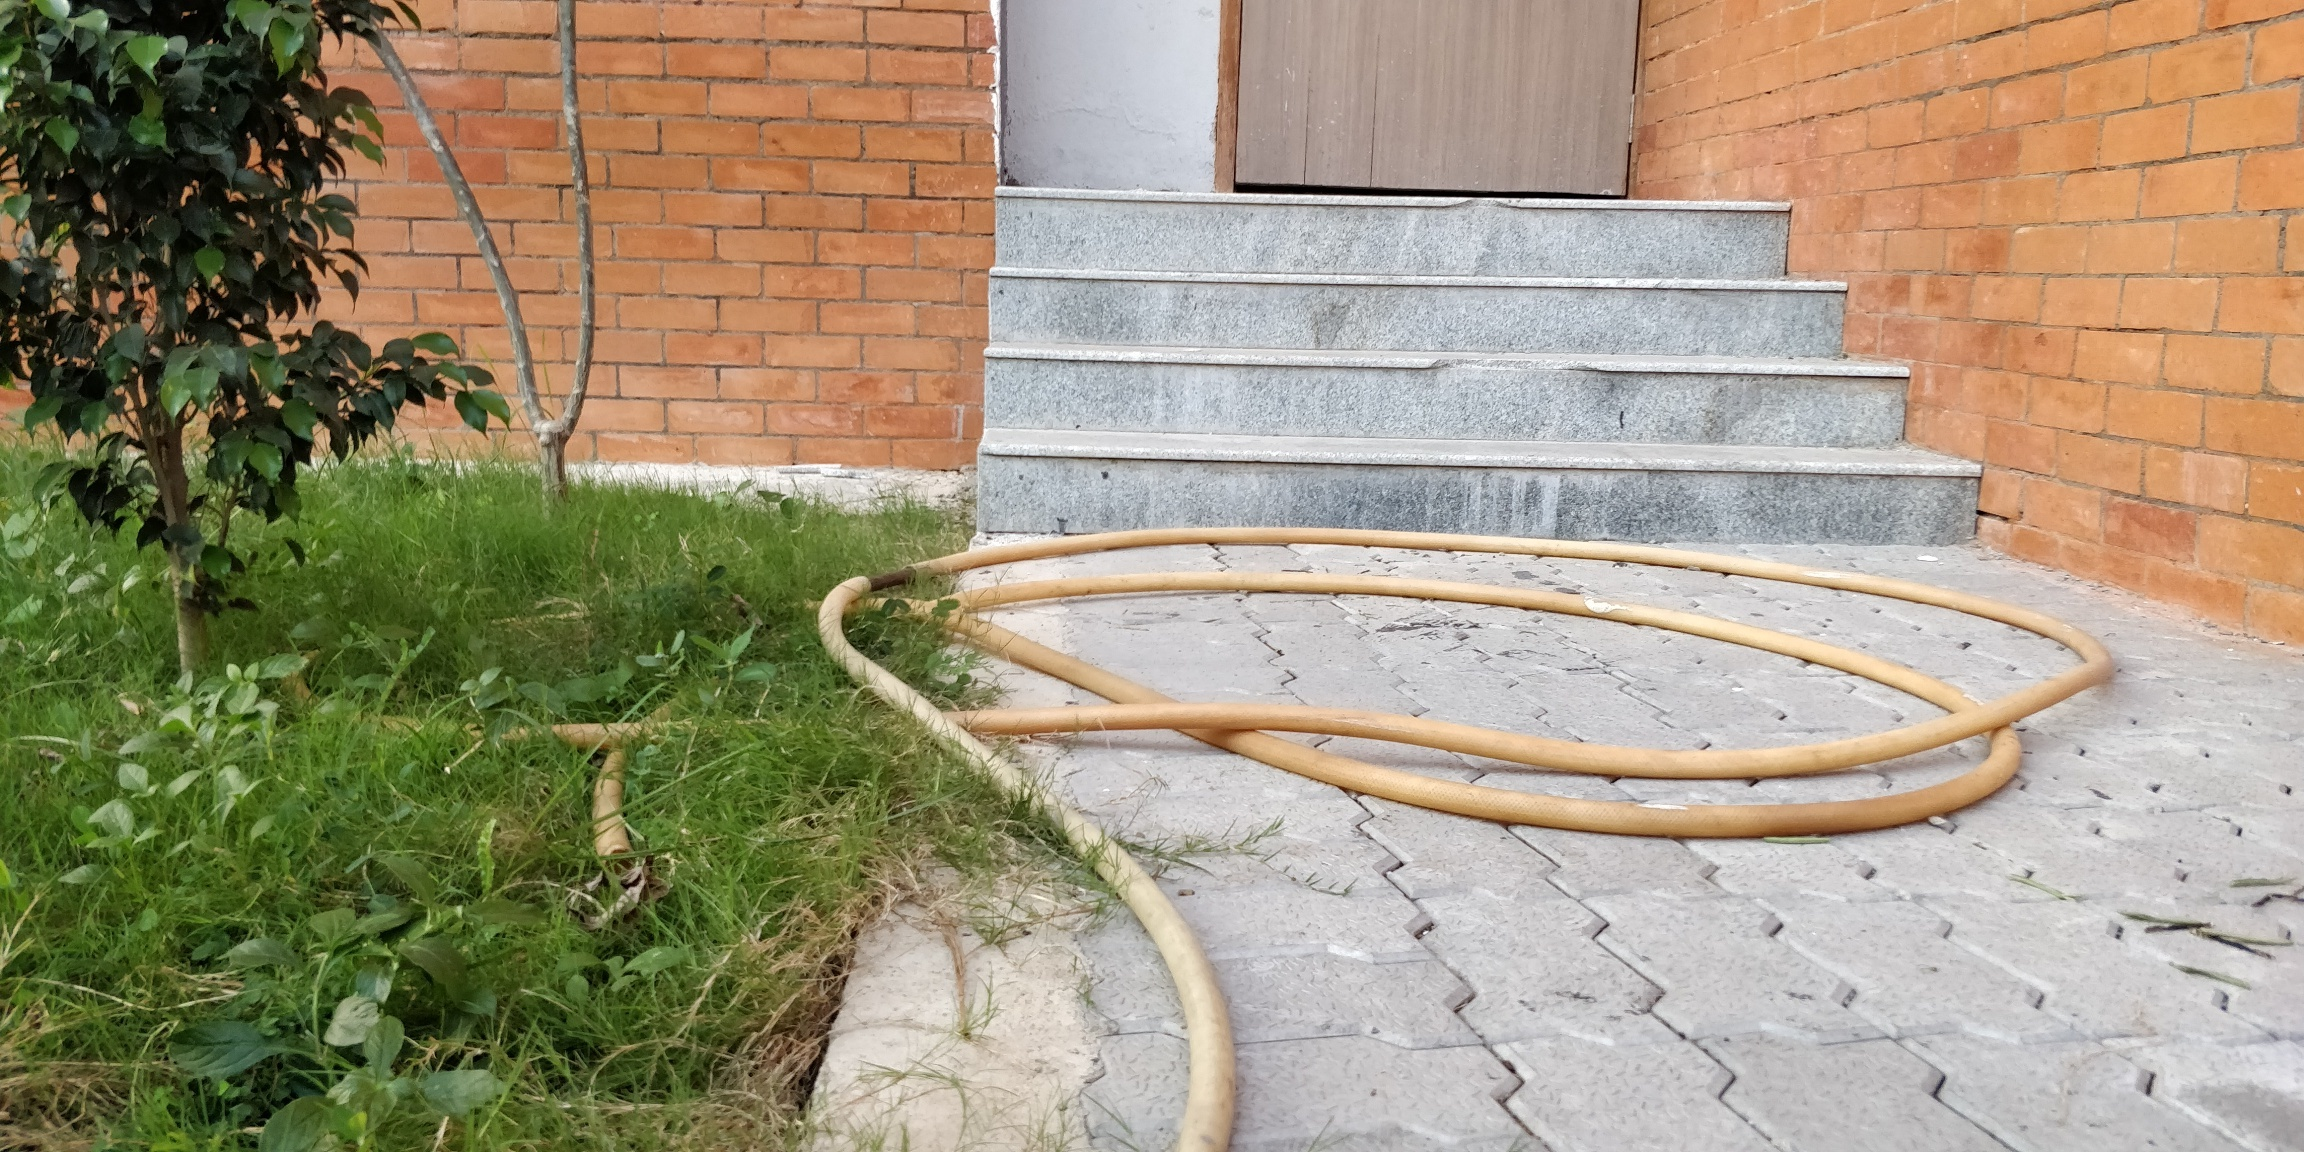stairs_up: (976, 170, 1970, 552)
